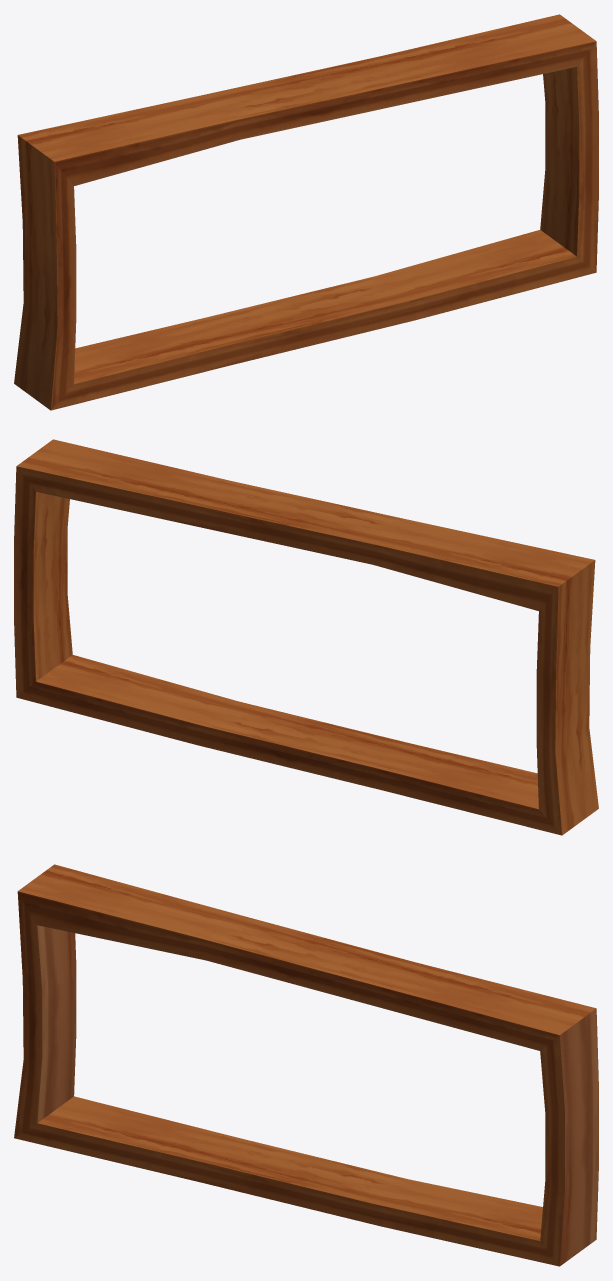
Rendered from PropWindow01TypeD_1_2.FBX.
The picture shows the model from 3 angles, top to bottom: view 1: azimuth 30°, elevation 25°; view 2: azimuth 150°, elevation 25°; view 3: azimuth 330°, elevation 25°; orthographic projection.
Parts seen in each view (by area): view 1: PropWindow01TypeD_1_2; view 2: PropWindow01TypeD_1_2; view 3: PropWindow01TypeD_1_2.
Boxes of the visible parts, x1,y1,x2,y2 form: PropWindow01TypeD_1_2: (14,14,598,410); PropWindow01TypeD_1_2: (14,439,598,835); PropWindow01TypeD_1_2: (14,864,598,1266).
Size of what is drawn, in the model's own units: 2.63 by 1.13 by 0.3049.
